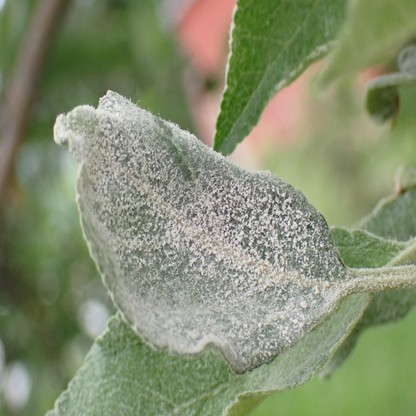powder: (54, 89, 345, 373), (49, 314, 283, 416), (243, 295, 374, 397), (332, 230, 402, 250)
